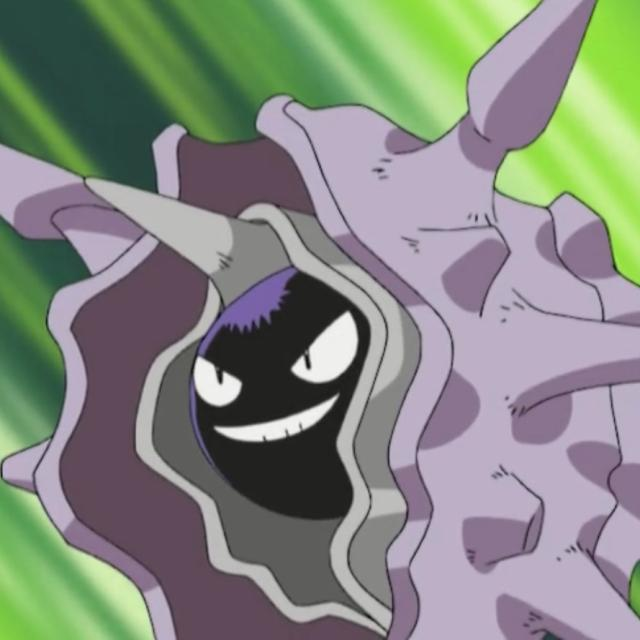Cloyster: (38, 4, 638, 640)
